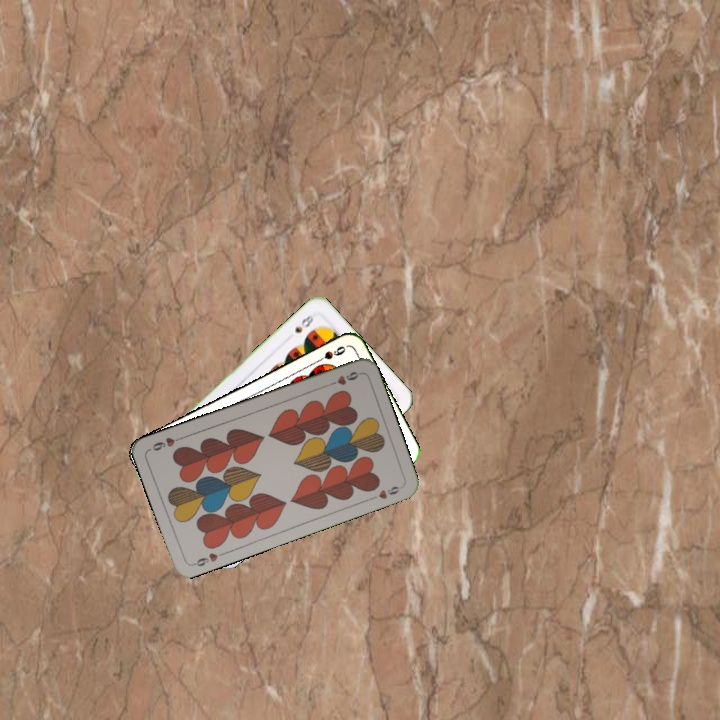H9: (323, 367, 363, 389), (188, 548, 227, 569)
S8: (291, 308, 317, 335)
S9: (310, 342, 348, 366)
